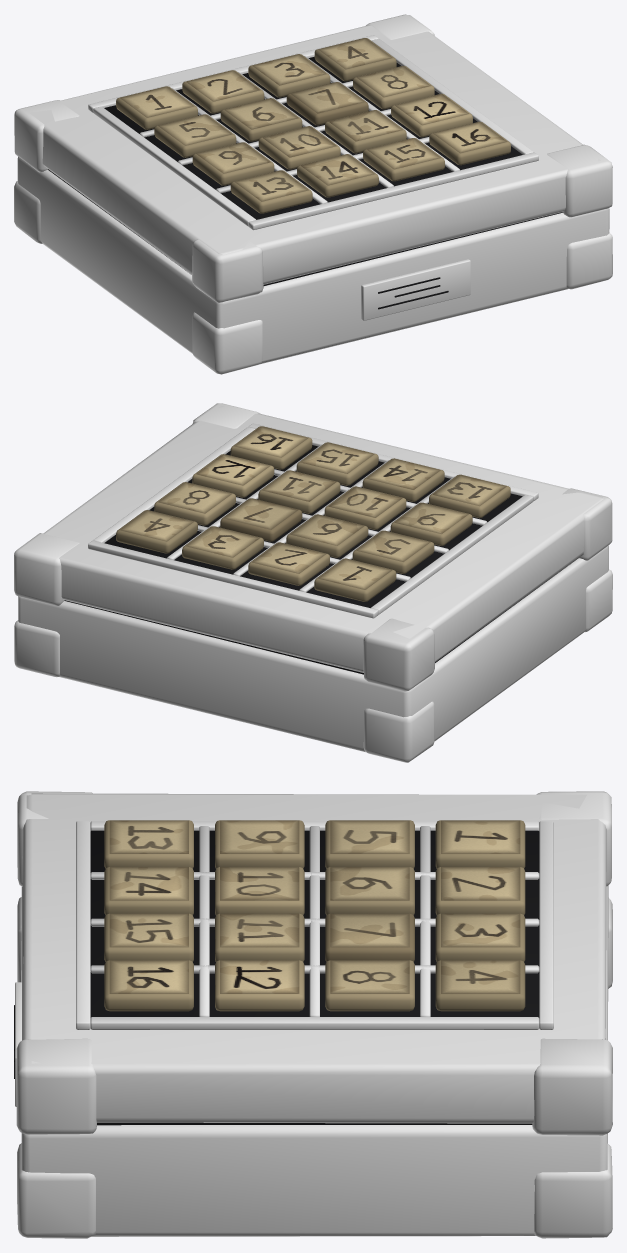
File: PuzzleBox.fbx
The picture shows the model from 3 angles, top to bottom: view 1: azimuth 30°, elevation 25°; view 2: azimuth 150°, elevation 25°; view 3: azimuth 270°, elevation 25°; orthographic projection. The views are drawn at different scales.
Parts seen in each view (by area): view 1: PuzzleBox; view 2: PuzzleBox; view 3: PuzzleBox.
Part boxes in pixels (bbox=[...]): PuzzleBox: bbox=[14, 14, 612, 374]; PuzzleBox: bbox=[14, 403, 612, 762]; PuzzleBox: bbox=[14, 791, 612, 1238].
Size of the model in its own units: 0.1927 by 0.0623 by 0.1736.
